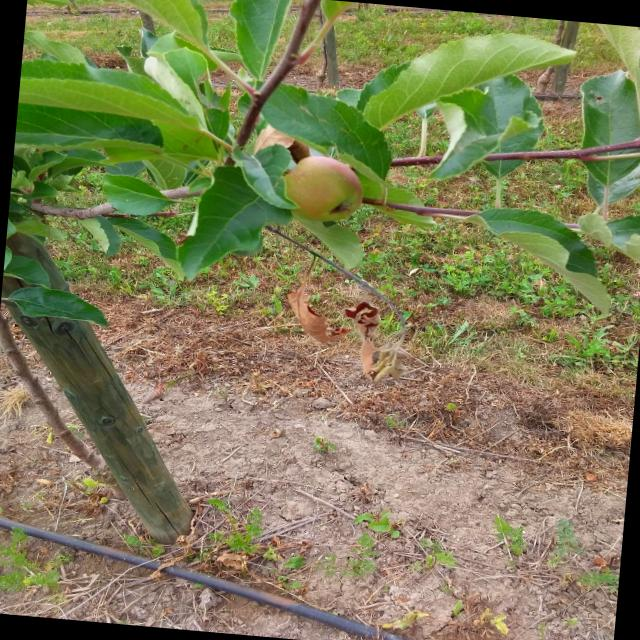-FireBlight-: (287, 249, 398, 381)
